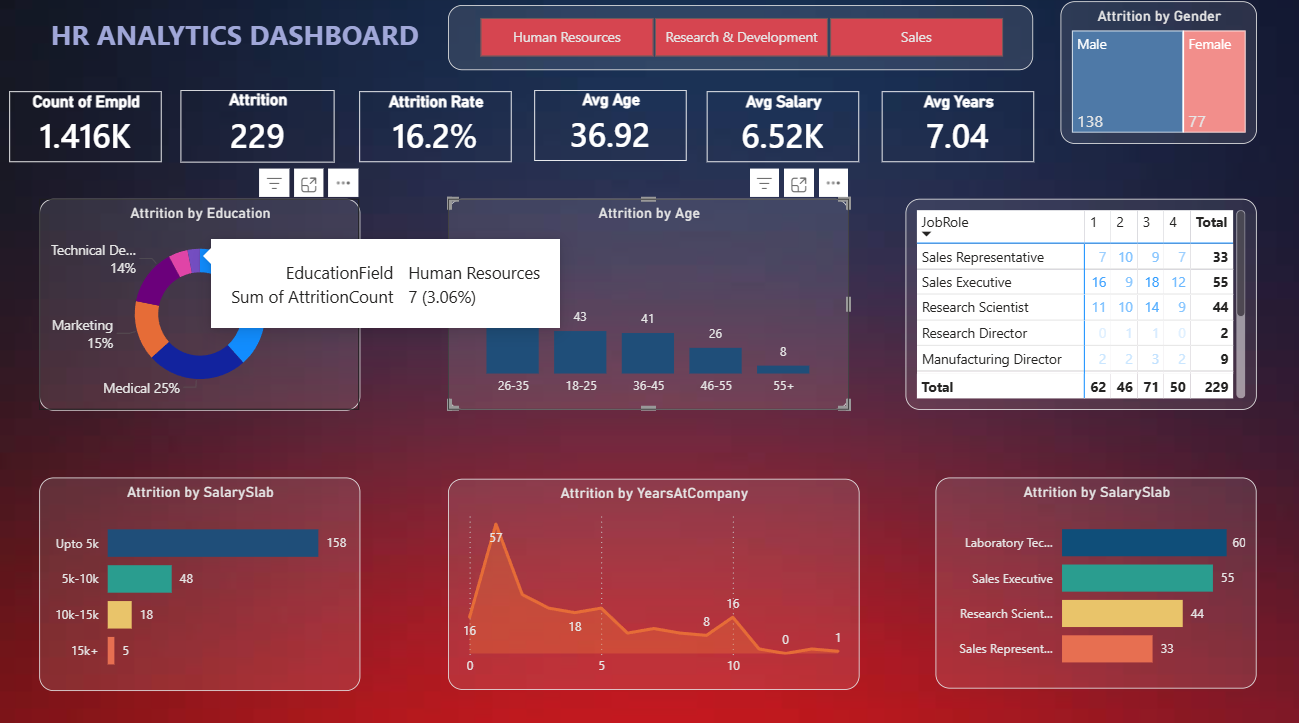

This screenshot's page, from the dashboard's own definition file:
{"tool":"powerbi","page":{"name":"Page 1","canvas":[1280,720],"ordinal":0},"visuals":[{"type":"cardVisual","title":"Count of EmpId","fields":{"Data":["CountNonNull(HR_Analytics.EmpID)"]},"box":[11.4,94.1,149.7,69.8],"z":0},{"type":"cardVisual","title":"Attrition","fields":{"Data":["Sum(HR_Analytics.AttritionCount)"]},"box":[179.6,92.7,151.1,71.3],"z":1000},{"type":"cardVisual","title":"Attrition Rate","fields":{"Data":["HR_Analytics.AttritionRate"]},"box":[354.9,94.1,149.7,69.8],"z":2000},{"type":"cardVisual","title":"Avg Age","fields":{"Data":["Avg(HR_Analytics.Age)"]},"box":[526,92.7,149.7,69.8],"z":3000},{"type":"cardVisual","title":"Avg Salary","fields":{"Data":["Avg(HR_Analytics.MonthlyIncome)"]},"box":[695.6,94.1,149.7,69.8],"z":4000},{"type":"cardVisual","title":"Avg Years","fields":{"Data":["Avg(HR_Analytics.YearsAtCompany)"]},"box":[868.1,94.1,149.7,69.8],"z":5000},{"type":"donutChart","title":"Attrition by Education","fields":{"Category":["HR_Analytics.EducationField"],"Y":["Sum(HR_Analytics.AttritionCount)"]},"box":[39.9,199.6,315,208.1],"z":6000},{"type":"columnChart","title":"Attrition by Age","fields":{"Category":["HR_Analytics.AgeGroup"],"Y":["Sum(HR_Analytics.AttritionCount)"]},"box":[441.7,200,393.9,207.4],"z":7000},{"type":"pivotTable","fields":{"Rows":["HR_Analytics.JobRole"],"Columns":["HR_Analytics.JobSatisfaction"],"Values":["Sum(HR_Analytics.AttritionCount)"]},"box":[890.8,200,344.8,207.4],"z":8000},{"type":"barChart","title":"Attrition by SalarySlab ","fields":{"Category":["HR_Analytics.SalarySlab"],"Y":["Sum(HR_Analytics.AttritionCount)"]},"box":[39.9,473.2,315,209.5],"z":9000},{"type":"barChart","title":"Attrition by SalarySlab ","fields":{"Category":["HR_Analytics.JobRole"],"Y":["Sum(HR_Analytics.AttritionCount)"]},"box":[920.3,473.6,315.3,207.4],"z":10000},{"type":"areaChart","title":"Attrition by YearsAtCompany ","fields":{"Category":["HR_Analytics.YearsAtCompany"],"Y":["Sum(HR_Analytics.AttritionCount)"]},"box":[441.7,474.8,403.7,207.4],"z":11000},{"type":"treemap","title":"Attrition by Gender","fields":{"Values":["Sum(HR_Analytics.AttritionCount)"],"Group":["HR_Analytics.Gender"]},"box":[1043.4,5.7,192.4,139.7],"z":12000},{"type":"slicer","fields":{"Values":["HR_Analytics.Department"]},"box":[441.7,9.8,574.2,63.8],"z":13000},{"type":"textbox","box":[0,15.7,464.7,58.4],"z":14000}]}

Visuals, with their boxes in screenshot pixels (x1, y1, x2, y2), scaled from the page's 1280x720 canvas onto the 1299x723 screenshot:
"Count of EmpId" cardVisual: (x1=12, y1=94, x2=163, y2=165)
"Attrition" cardVisual: (x1=182, y1=93, x2=336, y2=165)
"Attrition Rate" cardVisual: (x1=360, y1=94, x2=512, y2=165)
"Avg Age" cardVisual: (x1=534, y1=93, x2=686, y2=163)
"Avg Salary" cardVisual: (x1=706, y1=94, x2=858, y2=165)
"Avg Years" cardVisual: (x1=881, y1=94, x2=1033, y2=165)
"Attrition by Education" donutChart: (x1=40, y1=200, x2=360, y2=409)
"Attrition by Age" columnChart: (x1=448, y1=201, x2=848, y2=409)
pivotTable - HR_Analytics.JobRole x HR_Analytics.JobSatisfaction: (x1=904, y1=201, x2=1254, y2=409)
"Attrition by SalarySlab " barChart: (x1=40, y1=475, x2=360, y2=686)
"Attrition by SalarySlab " barChart: (x1=934, y1=476, x2=1254, y2=684)
"Attrition by YearsAtCompany " areaChart: (x1=448, y1=477, x2=858, y2=685)
"Attrition by Gender" treemap: (x1=1059, y1=6, x2=1254, y2=146)
slicer - HR_Analytics.Department: (x1=448, y1=10, x2=1031, y2=74)
textbox: (x1=0, y1=16, x2=472, y2=74)
